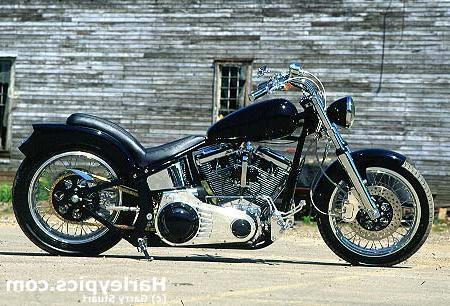motorcycle: (8, 50, 440, 273)
